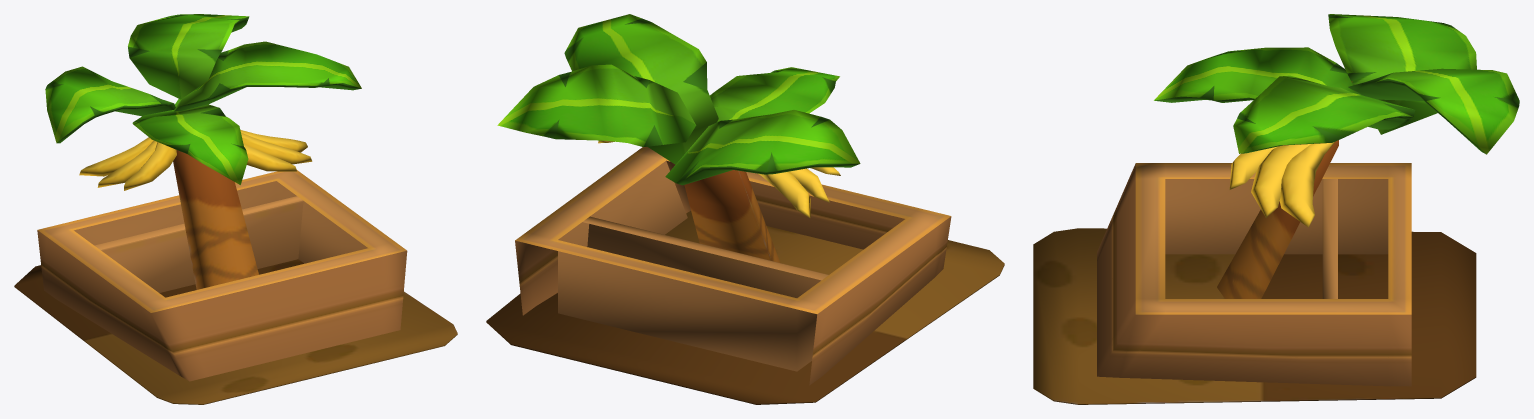
File: bananafarm.obj
The picture shows the model from 3 angles, left to right: view 1: azimuth 30°, elevation 25°; view 2: azimuth 150°, elevation 25°; view 3: azimuth 270°, elevation 25°; orthographic projection. The views are drawn at different scales.
Parts seen in each view (by area): view 1: FlatSkin_BananaFarm_BananaFarm; view 2: FlatSkin_BananaFarm_BananaFarm; view 3: FlatSkin_BananaFarm_BananaFarm.
Part boxes in pixels (bbox=[...]): FlatSkin_BananaFarm_BananaFarm: bbox=[14, 14, 457, 404]; FlatSkin_BananaFarm_BananaFarm: bbox=[486, 14, 1004, 404]; FlatSkin_BananaFarm_BananaFarm: bbox=[1033, 14, 1519, 404].
Bounding box in the file's own units: 25.91 × 18.74 × 30.37.
Materials: 1 (1 with a texture image).
